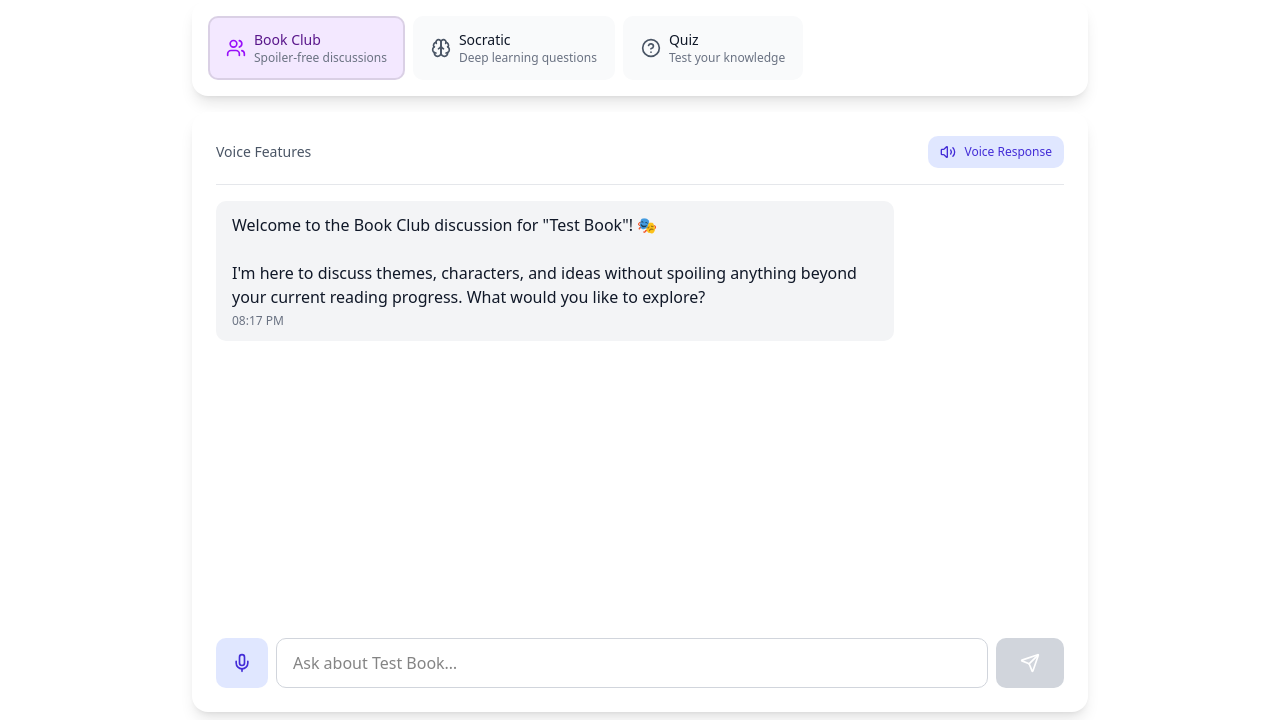
VoiceChatBot (AI companion page) › still answers when retrieval fails
In the field with placeholder "Ask about Test Book…": coordinates (632, 663) [276,638,988,688], type "hi"
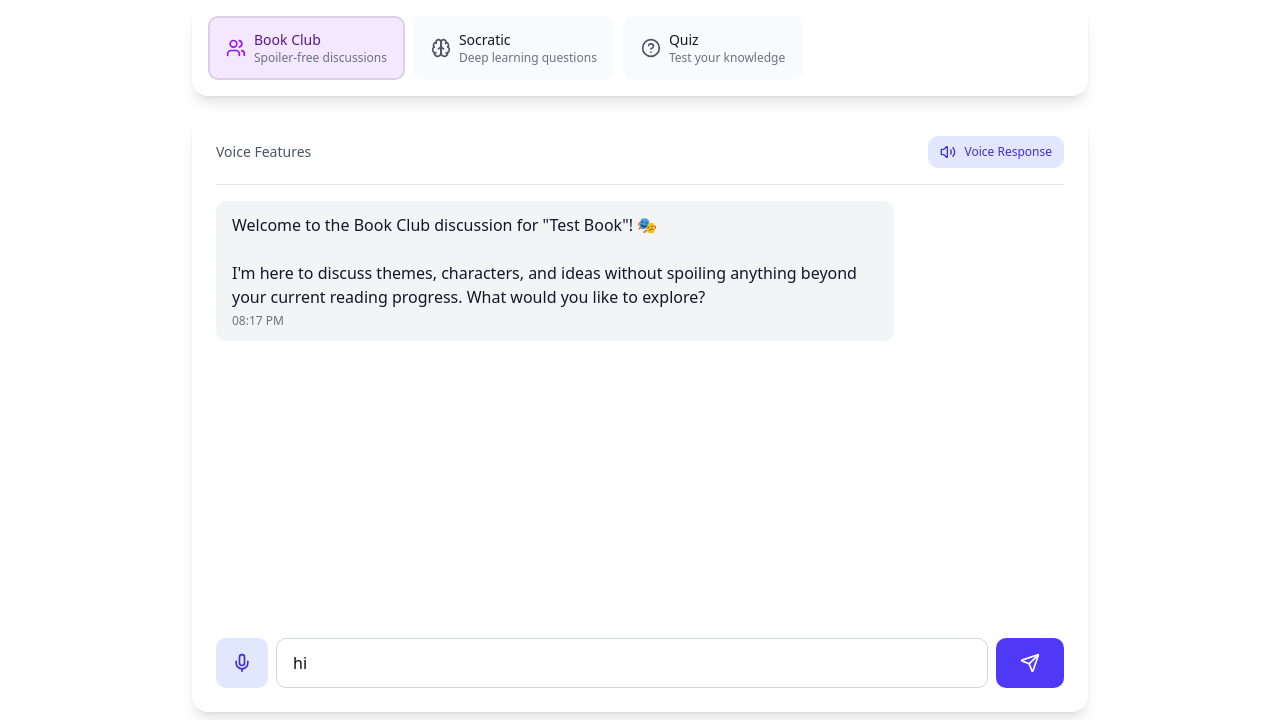
Press Enter in the field with placeholder "Ask about Test Book…", box [276,638,988,688]
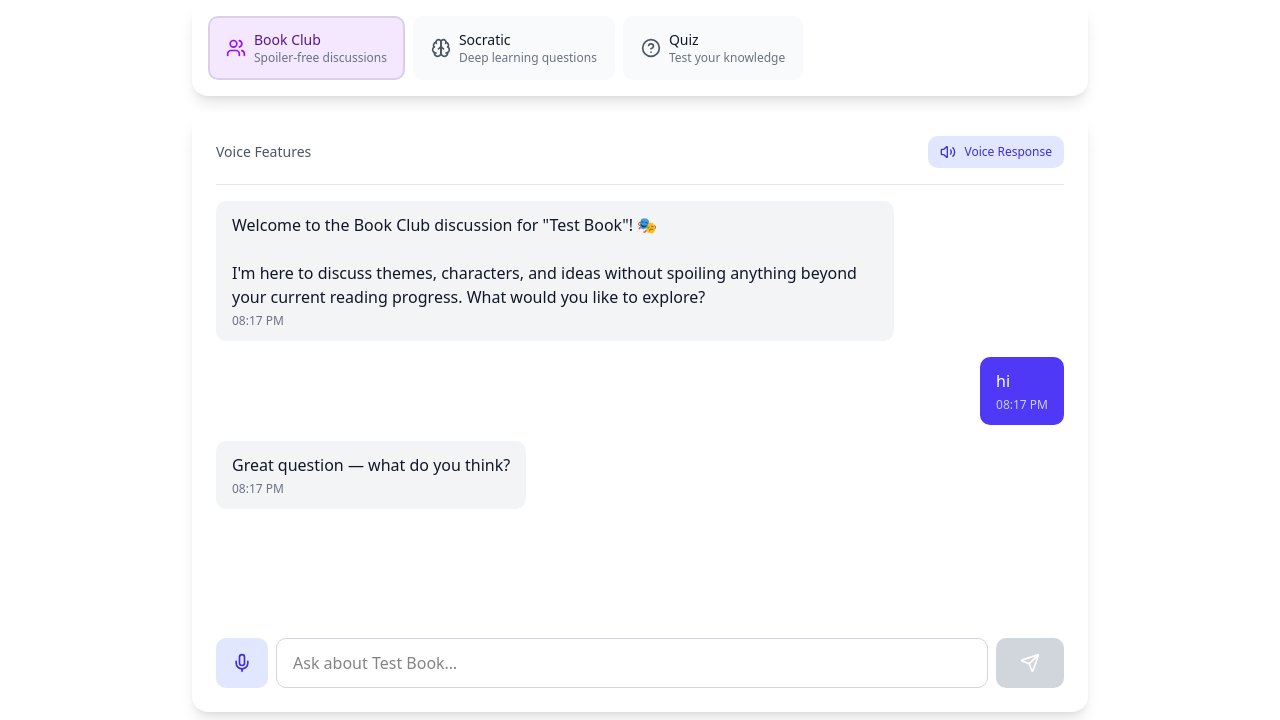
Expected: the text "Great question — what do you think?" is shown, [232,453,510,477]
